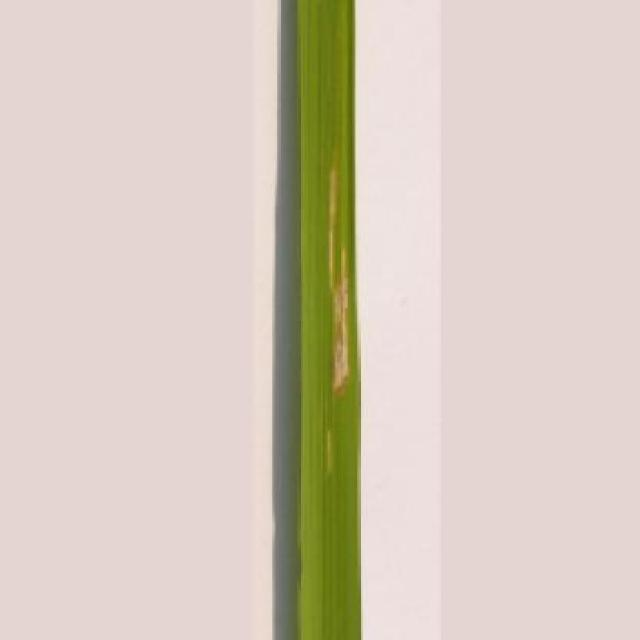Brown_Spot: (291, 0, 366, 640)
